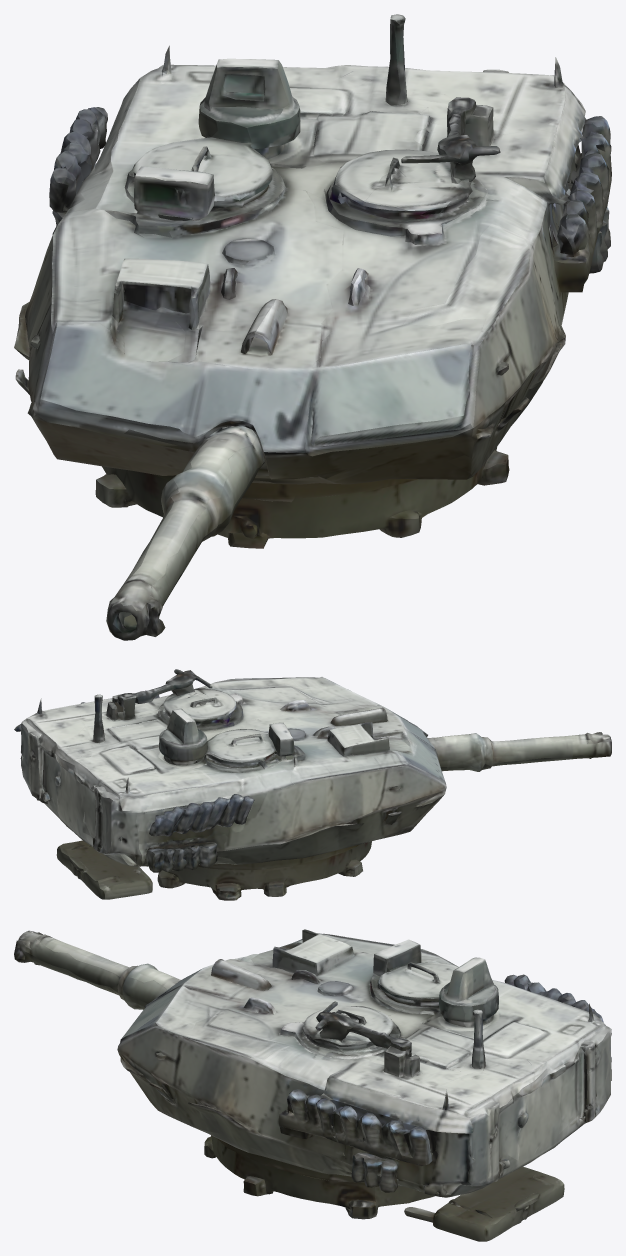
File: main_turret_v5.glb
3 renders of one model, top to bottom at view 1: azimuth 30°, elevation 25°; view 2: azimuth 150°, elevation 25°; view 3: azimuth 270°, elevation 25°, orthographic. The views are drawn at different scales.
Visible parts, largest first — view 1: geometry_0; view 2: geometry_0; view 3: geometry_0.
Part boxes in pixels (x1,y1,x2,y2): geometry_0: (14,14,611,640); geometry_0: (14,669,611,900); geometry_0: (14,929,611,1241).
Size of the model in its own units: 4.5 by 1.73 by 4.49.
Materials: 1 (1 with a texture image).
